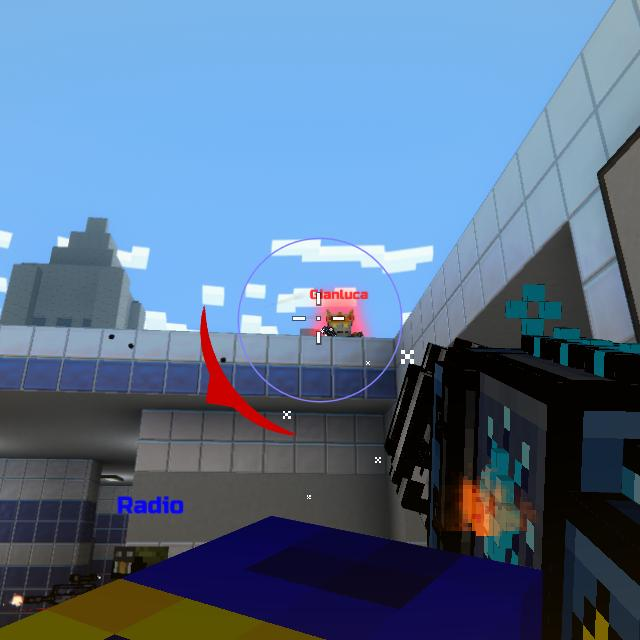Enemy: (319, 308, 365, 338)
